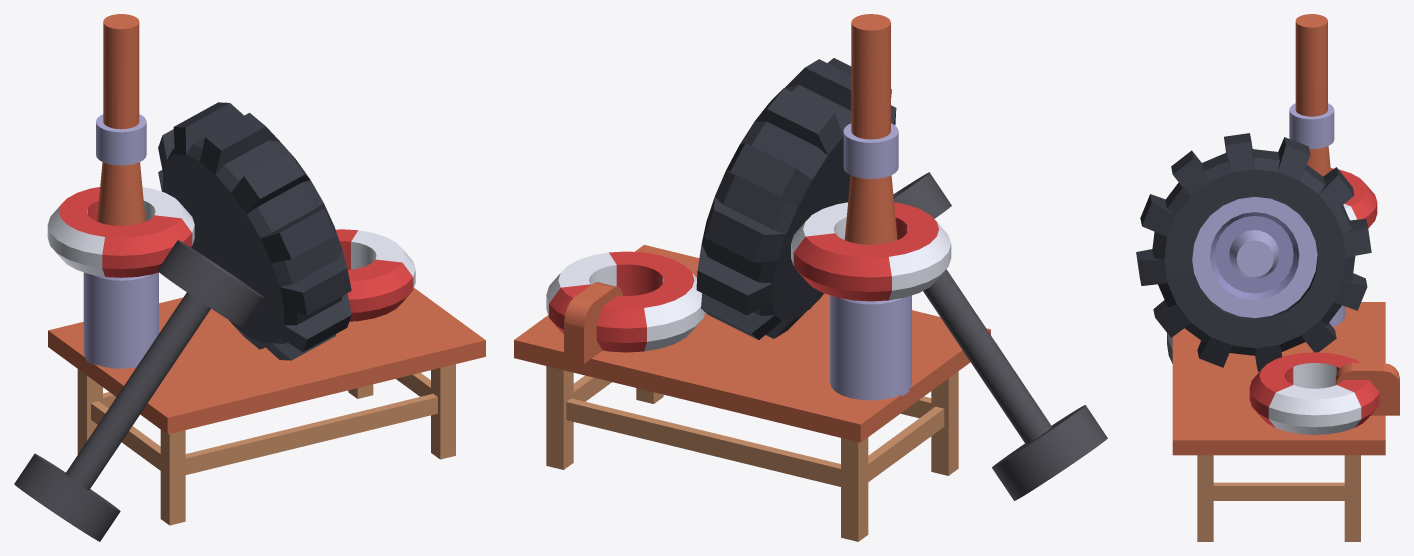
Rendered from Zombie Obstable Test.fbx.
The picture shows the model from 3 angles, left to right: view 1: azimuth 30°, elevation 25°; view 2: azimuth 150°, elevation 25°; view 3: azimuth 270°, elevation 25°; orthographic projection. The views are drawn at different scales.
Parts seen in each view (by area): view 1: mergedBlocks; view 2: mergedBlocks; view 3: mergedBlocks.
Part boxes in pixels (x1,y1,x2,y2): mergedBlocks: (14, 14, 485, 541); mergedBlocks: (514, 14, 1107, 541); mergedBlocks: (1136, 14, 1399, 541).
Size of the model in its own units: 13.83 by 13.6 by 8.06.
